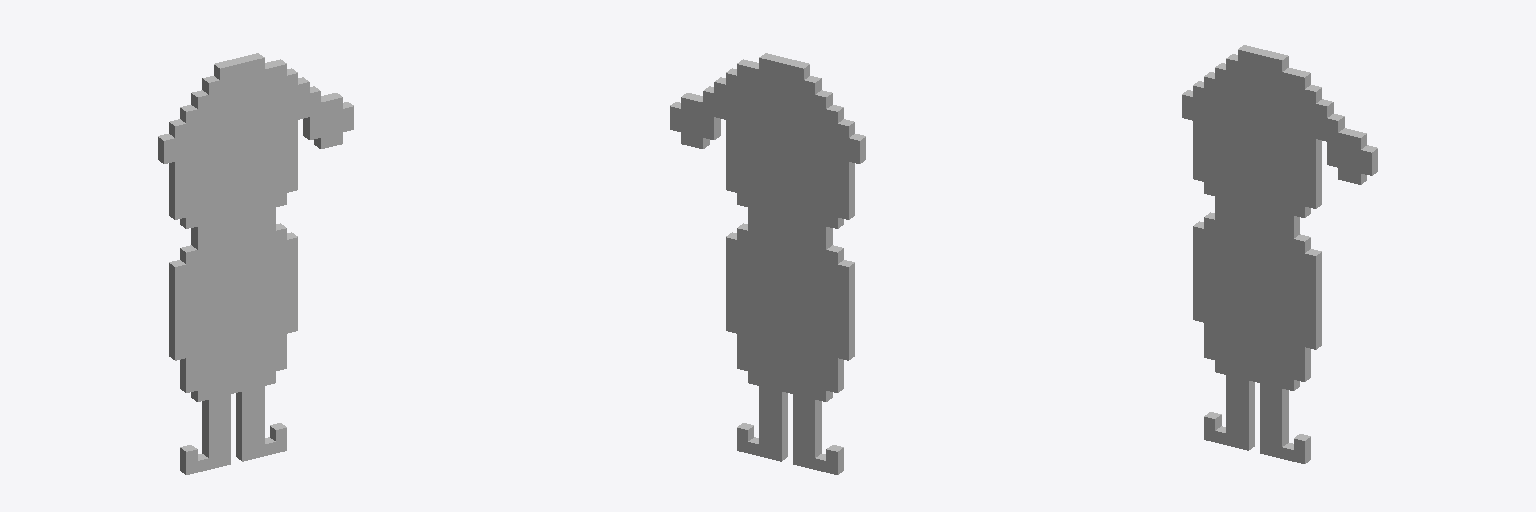
File: elf walk 1.obj
3 renders of one model, left to right at view 1: azimuth 30°, elevation 25°; view 2: azimuth 150°, elevation 25°; view 3: azimuth 330°, elevation 25°, orthographic.
Parts seen in each view (by area): view 1: object 1; view 2: object 1; view 3: object 1.
Boxes of the visible parts, box(x1,y1,x2,y2) form: object 1: box(158, 53, 353, 474); object 1: box(670, 53, 865, 474); object 1: box(1182, 45, 1377, 463).
Size of the model in its own units: 1.7 by 3.4 by 0.1.